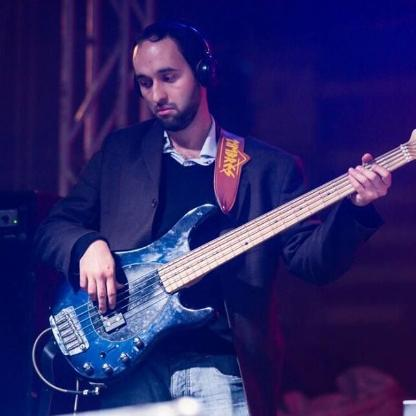bass: (38, 129, 416, 385)
